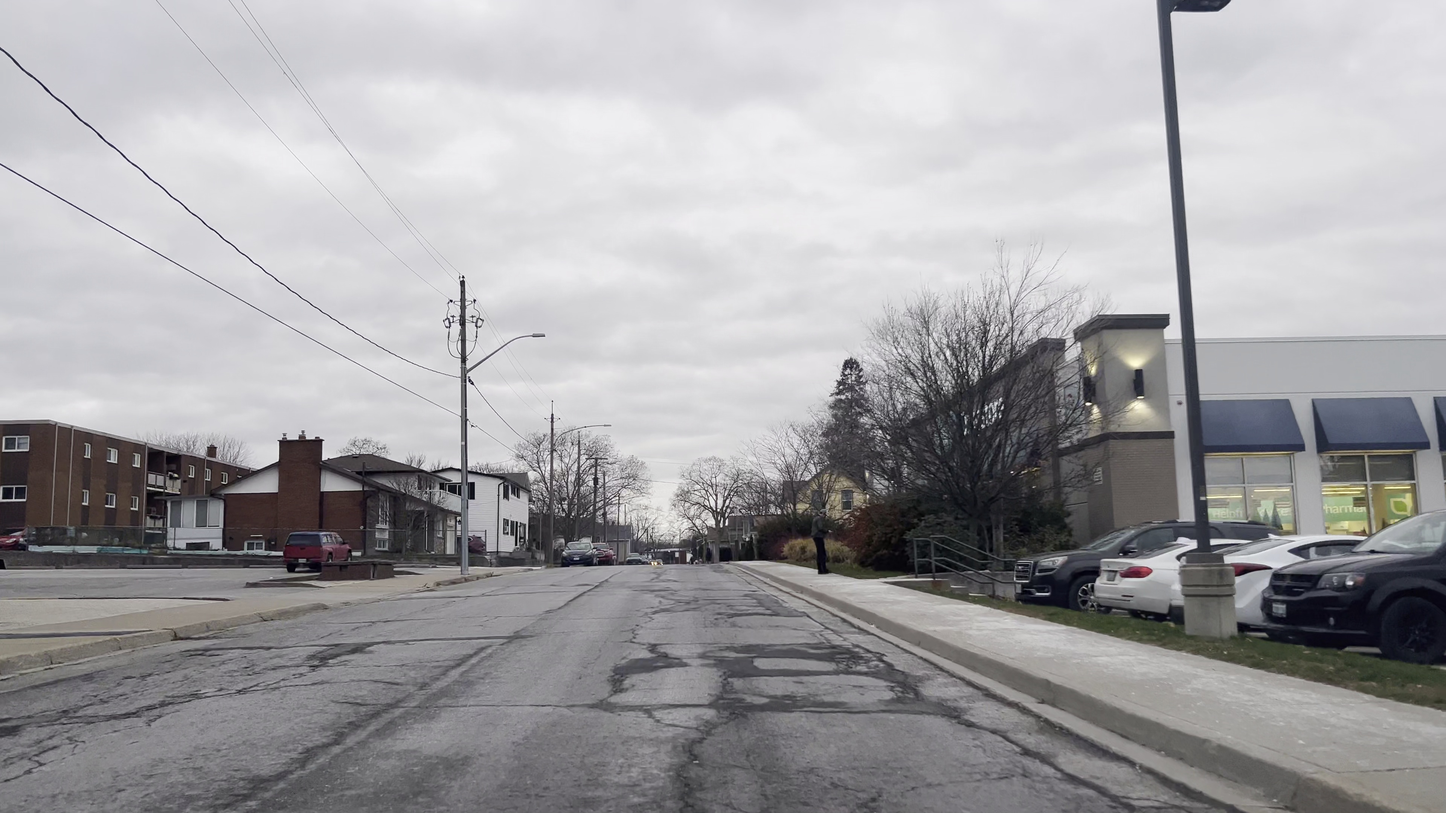cracks: (644, 716, 738, 813), (26, 689, 181, 740), (710, 685, 864, 729), (616, 639, 702, 713), (274, 636, 394, 681), (697, 586, 800, 625)
pothole: (719, 634, 894, 684)
